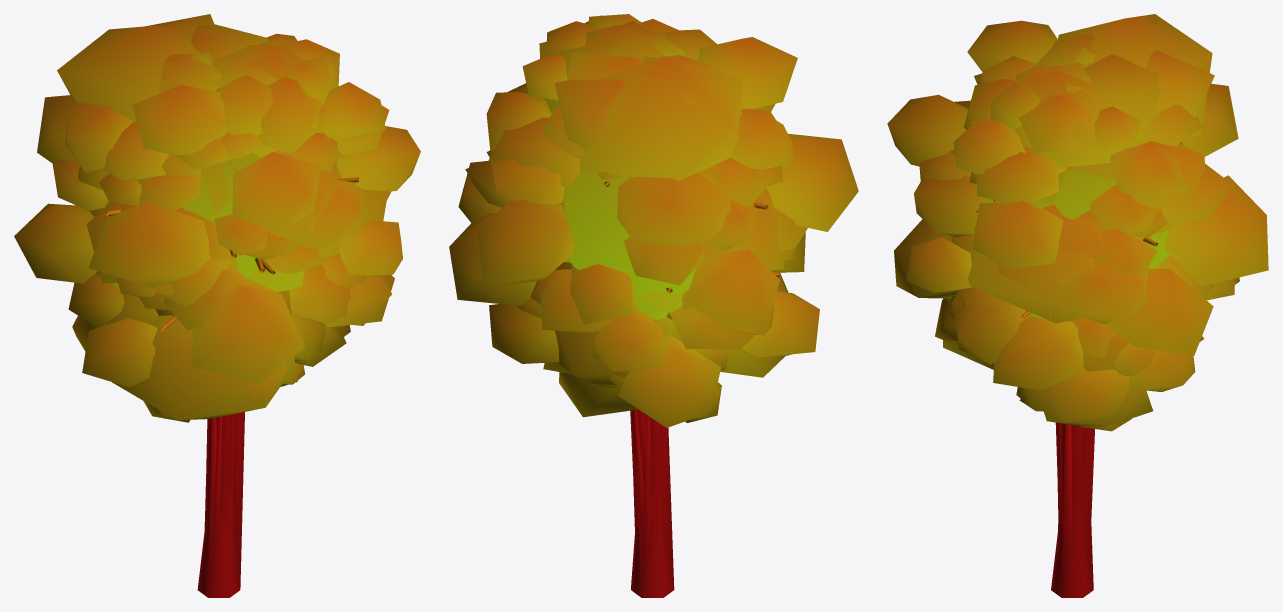
Rendered from aspen.glb.
3 views of the same model, side by side, from view 1: azimuth 30°, elevation 25°; view 2: azimuth 150°, elevation 25°; view 3: azimuth 270°, elevation 25° (orthographic).
Parts seen in each view (by area): view 1: v3, v3_far, v5, v0, v2, v1, v2_far, v4, v1_far, v5_far, v0_far; view 2: v3, v3_far, v0, v5, v2, v0_far, v1, v2_far, v1_far, v5_far, v4_far, v4; view 3: v3, v5, v3_far, v5_far, v0, v2, v0_far, v4, v1_far, v4_far, v2_far, v1.
Part boxes in pixels (x1,y1,x2,y2): v3: (14,14,420,536); v3_far: (57,25,387,420); v5: (89,33,391,597); v0: (52,43,367,537); v2: (78,86,350,528); v1: (99,61,337,597); v2_far: (86,42,317,543); v4: (97,175,323,422); v1_far: (158,52,240,595); v5_far: (191,24,391,586); v0_far: (129,45,302,294); v3: (449,15,858,527); v3_far: (567,56,788,377); v0: (465,29,775,536); v5: (458,14,802,597); v2: (530,32,794,527); v0_far: (539,25,807,389); v1: (555,30,783,597); v2_far: (543,20,784,551); v1_far: (641,54,725,596); v5_far: (486,52,682,594); v4_far: (559,372,638,417); v4: (558,199,721,422); v3: (887,19,1268,422); v5: (914,78,1234,597); v3_far: (943,14,1212,369); v5_far: (974,54,1161,597); v0: (919,35,1205,525); v2: (950,76,1213,532); v0_far: (1013,71,1203,341); v4: (951,167,1171,431); v1_far: (1036,34,1151,582); v4_far: (1043,386,1153,426); v2_far: (971,62,1098,536); v1: (970,61,1167,580).
Size of the model in its own units: 6.69 by 10.82 by 6.75.
